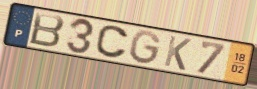3: (65, 17, 96, 56)
7: (197, 39, 228, 77)
B: (27, 10, 67, 49)
C: (94, 25, 130, 61)
G: (129, 29, 163, 67)
K: (162, 34, 193, 73)
